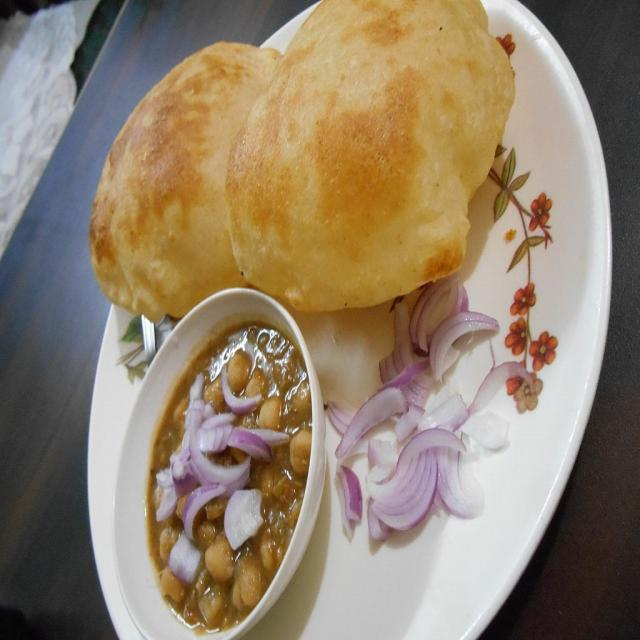Bhatura: (224, 2, 514, 313), (89, 41, 304, 320)
Chole: (153, 328, 310, 617)
